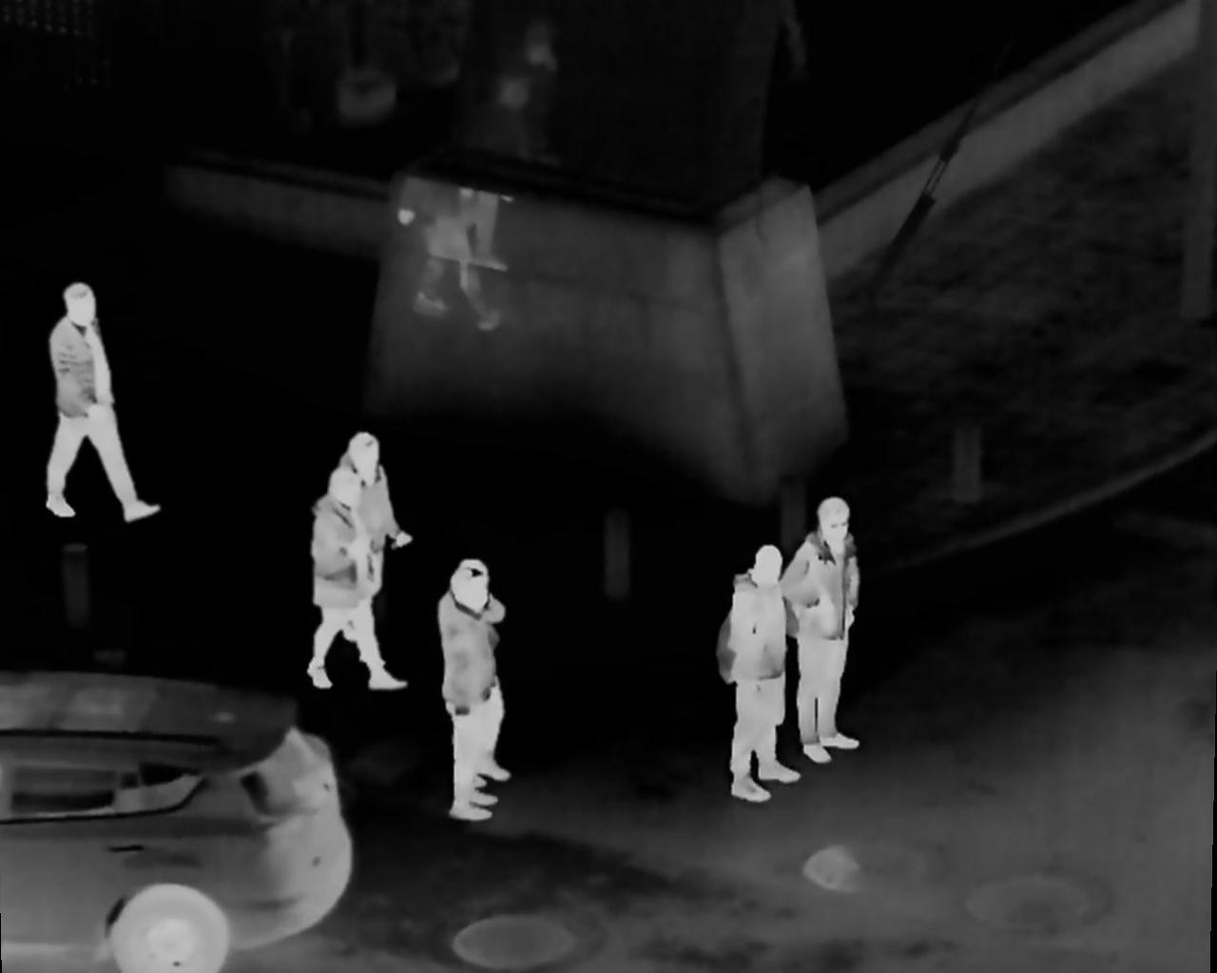person: (39, 291, 159, 530), (788, 496, 868, 785), (317, 471, 400, 696), (727, 541, 789, 803), (446, 558, 504, 827), (336, 427, 409, 615)
